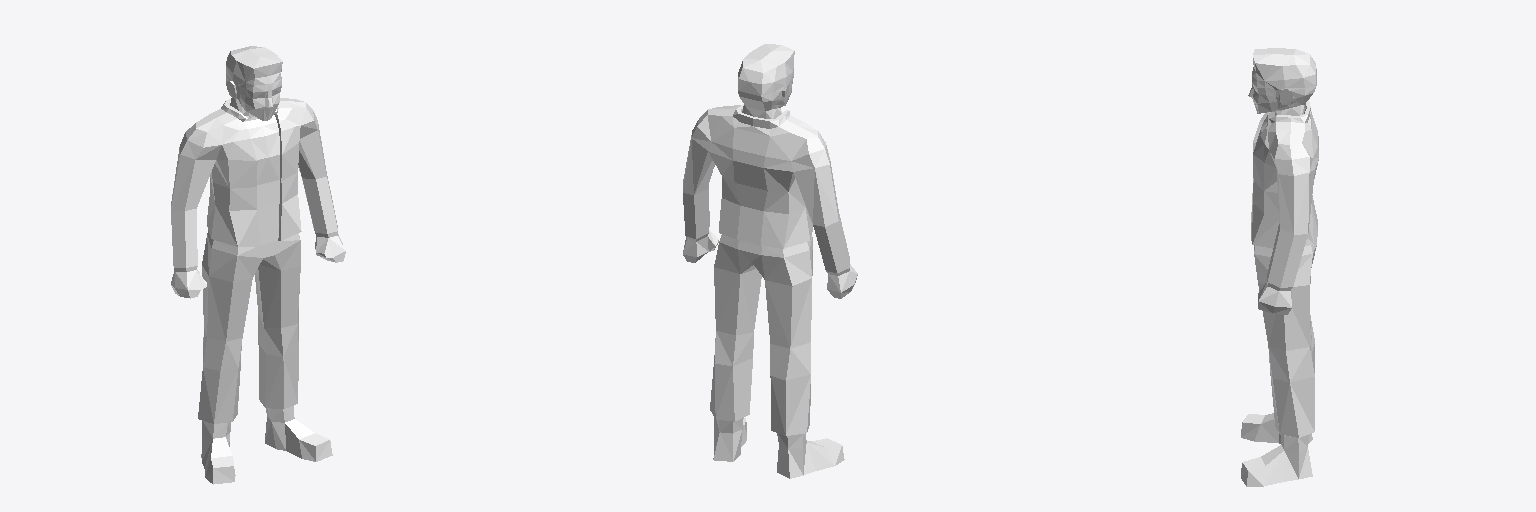
Rendered from gh-mockup-male1.obj.
3 views of the same model, side by side, from view 1: azimuth 30°, elevation 25°; view 2: azimuth 150°, elevation 25°; view 3: azimuth 270°, elevation 25° (orthographic).
Parts seen in each view (by area): view 1: gh_mockup-male1; view 2: gh_mockup-male1; view 3: gh_mockup-male1.
Part boxes in pixels (x1,y1,x2,y2): gh_mockup-male1: (171,46,345,484); gh_mockup-male1: (683,44,857,478); gh_mockup-male1: (1241,48,1318,486).
Size of the model in its own units: 0.2986 by 0.6865 by 0.1213.